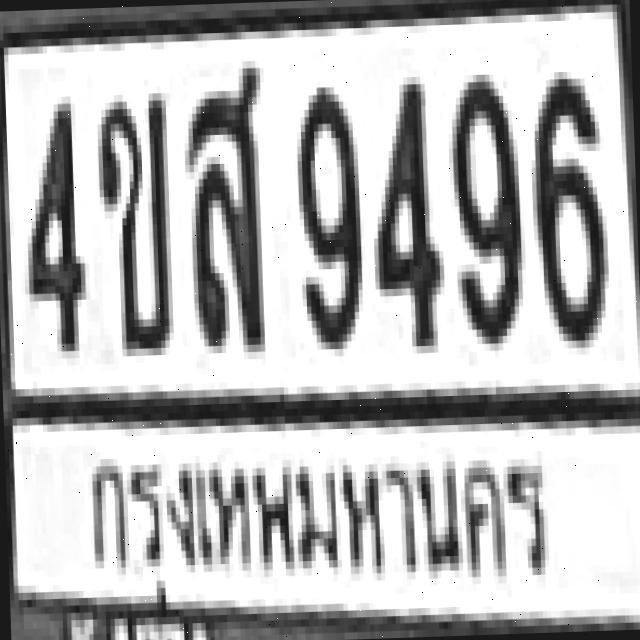11KhorKhai: (92, 86, 170, 350)
4: (368, 65, 438, 344), (18, 96, 83, 345)
49SorSuea: (182, 61, 264, 347)
6: (528, 67, 602, 338)
9: (446, 66, 520, 338), (290, 79, 360, 343)
Bangkok: (80, 422, 560, 620)
